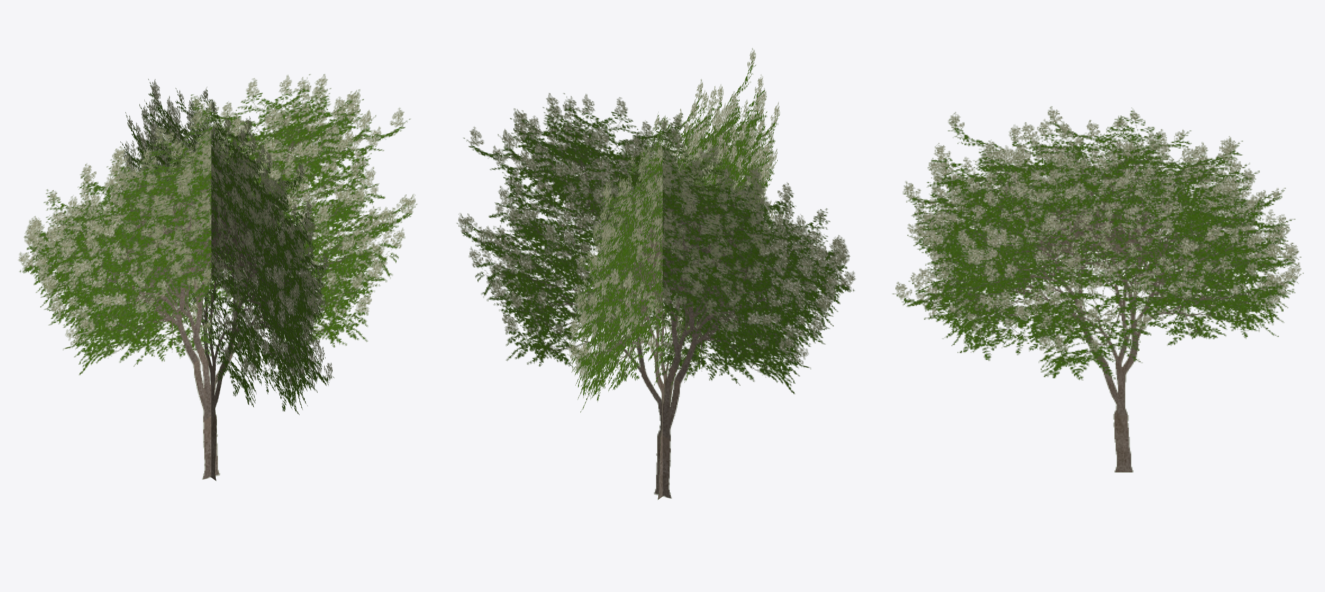
The model's file is AraliaElata.glb.
The picture shows the model from 3 angles, left to right: view 1: azimuth 30°, elevation 25°; view 2: azimuth 150°, elevation 25°; view 3: azimuth 270°, elevation 25°; orthographic projection. The views are drawn at different scales.
Parts seen in each view (by area): view 1: mesh__mat_billboard_15; view 2: mesh__mat_billboard_15; view 3: mesh__mat_billboard_15.
Boxes of the visible parts, bbox=[...] form: mesh__mat_billboard_15: bbox=[18, 74, 417, 480]; mesh__mat_billboard_15: bbox=[456, 48, 855, 499]; mesh__mat_billboard_15: bbox=[892, 106, 1303, 472].
Size of the model in its own units: 6.76 by 6.31 by 6.42.
Materials: 1 (1 with a texture image).
